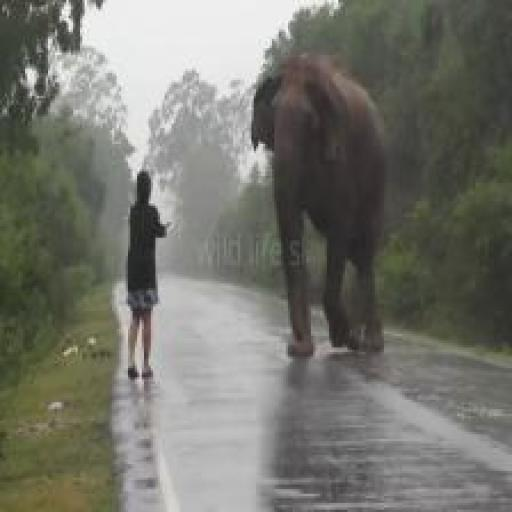Elephant: (236, 57, 410, 382)
